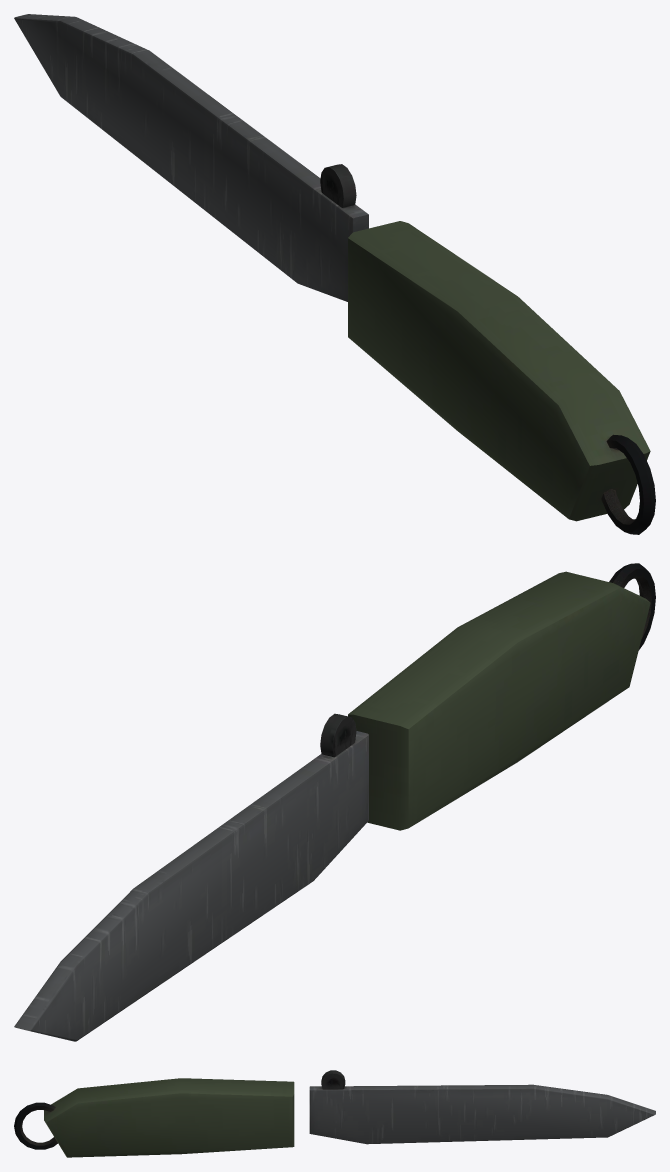
The model's file is knife_nomad.glb.
3 renders of one model, top to bottom at view 1: azimuth 30°, elevation 25°; view 2: azimuth 150°, elevation 25°; view 3: azimuth 270°, elevation 25°, orthographic. The views are drawn at different scales.
Visible parts, largest first — view 1: body_furniture, body_receiver, body_metal; view 2: body_furniture, body_receiver, body_metal; view 3: body_receiver, body_furniture, body_metal.
Part boxes in pixels (x1,y1,x2,y2): body_furniture: (348,221,650,521); body_receiver: (14,14,368,301); body_metal: (601,434,655,534); body_furniture: (348,571,650,830); body_receiver: (14,713,368,1041); body_metal: (609,563,655,650); body_receiver: (309,1070,655,1144); body_furniture: (44,1078,294,1157); body_metal: (14,1102,57,1149).
Bounding box in the file's own units: 0.021 × 0.0474 × 0.3462.
Materials: 3 (3 with a texture image).
